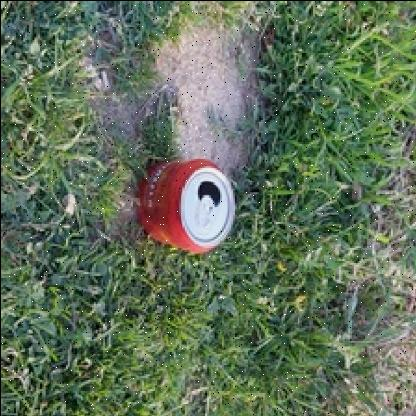Can: (134, 152, 238, 253)
